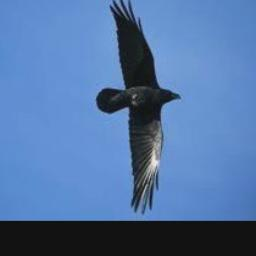Crow: (95, 0, 182, 213)
